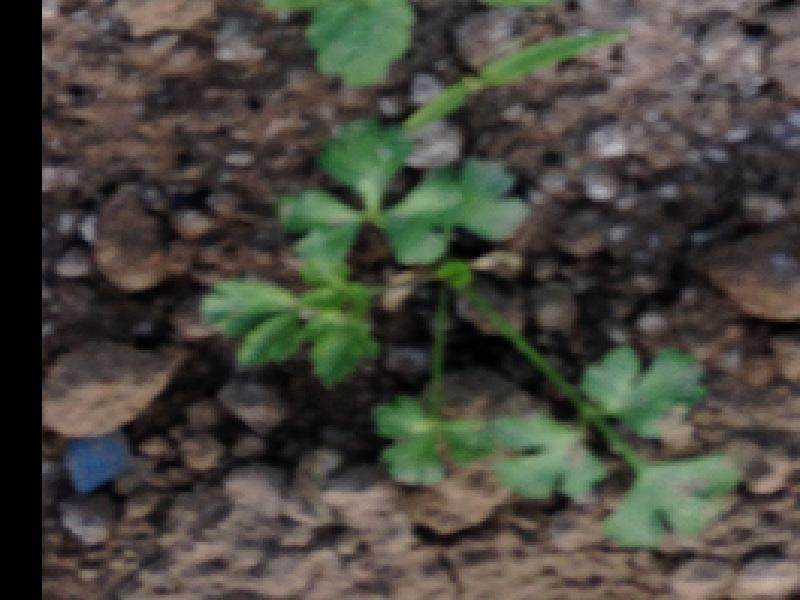radish: (147, 45, 737, 473)
